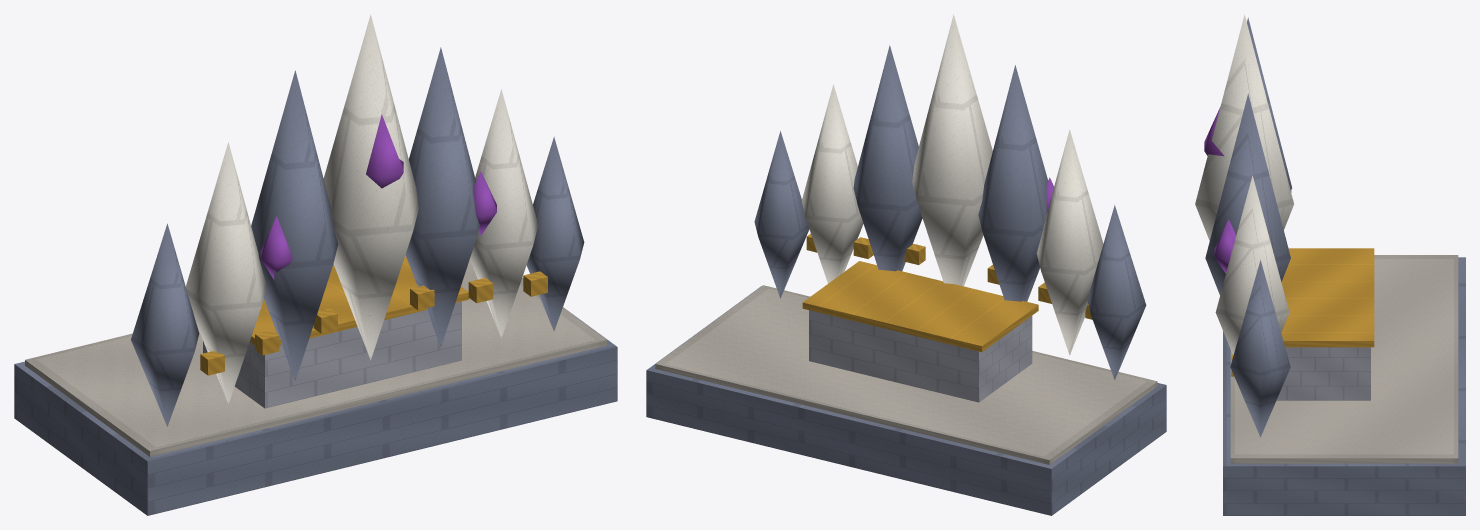
The model's file is high_crown_throne.obj.
3 renders of one model, left to right at view 1: azimuth 30°, elevation 25°; view 2: azimuth 150°, elevation 25°; view 3: azimuth 270°, elevation 25°, orthographic. The views are drawn at different scales.
Visible parts, largest first — view 1: high_crown_throne; view 2: high_crown_throne; view 3: high_crown_throne.
Boxes of the visible parts, bbox=[...] form: high_crown_throne: bbox=[14, 14, 617, 515]; high_crown_throne: bbox=[646, 14, 1166, 515]; high_crown_throne: bbox=[1195, 14, 1465, 515].
Bounding box in the file's own units: 11.2 × 9.93 × 6.13.
Materials: 6 (6 with a texture image).
